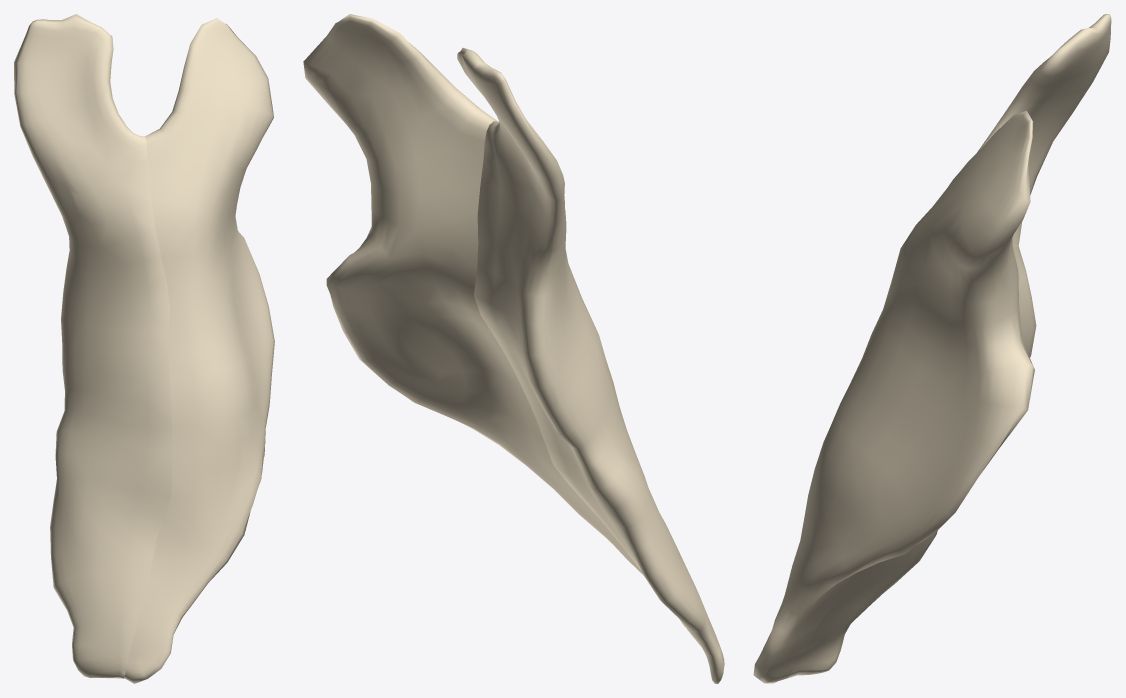
The model's file is VH_M_Thymus.glb.
3 views of the same model, side by side, from view 1: azimuth 30°, elevation 25°; view 2: azimuth 150°, elevation 25°; view 3: azimuth 270°, elevation 25° (orthographic). The views are drawn at different scales.
Visible parts, largest first — view 1: VH_M_thymus_lobe_L, VH_M_thymus_lobe_R; view 2: VH_M_thymus_lobe_R, VH_M_thymus_lobe_L; view 3: VH_M_thymus_lobe_R, VH_M_thymus_lobe_L.
Part boxes in pixels (x1,y1,x2,y2): VH_M_thymus_lobe_L: (14, 14, 172, 678); VH_M_thymus_lobe_R: (123, 18, 274, 683); VH_M_thymus_lobe_R: (303, 14, 643, 574); VH_M_thymus_lobe_L: (457, 48, 724, 683); VH_M_thymus_lobe_R: (753, 111, 1034, 683); VH_M_thymus_lobe_L: (788, 14, 1111, 677).
Bounding box in the file's own units: 0.037 × 0.0757 × 0.0351.
